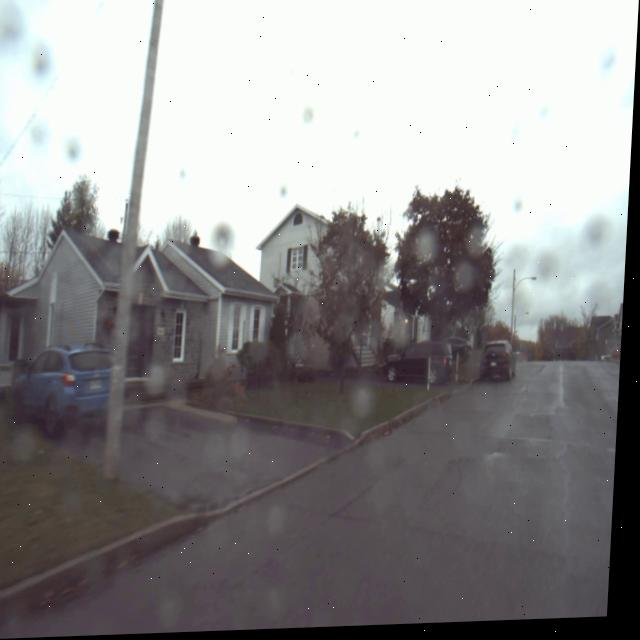car: (14, 330, 132, 435)
